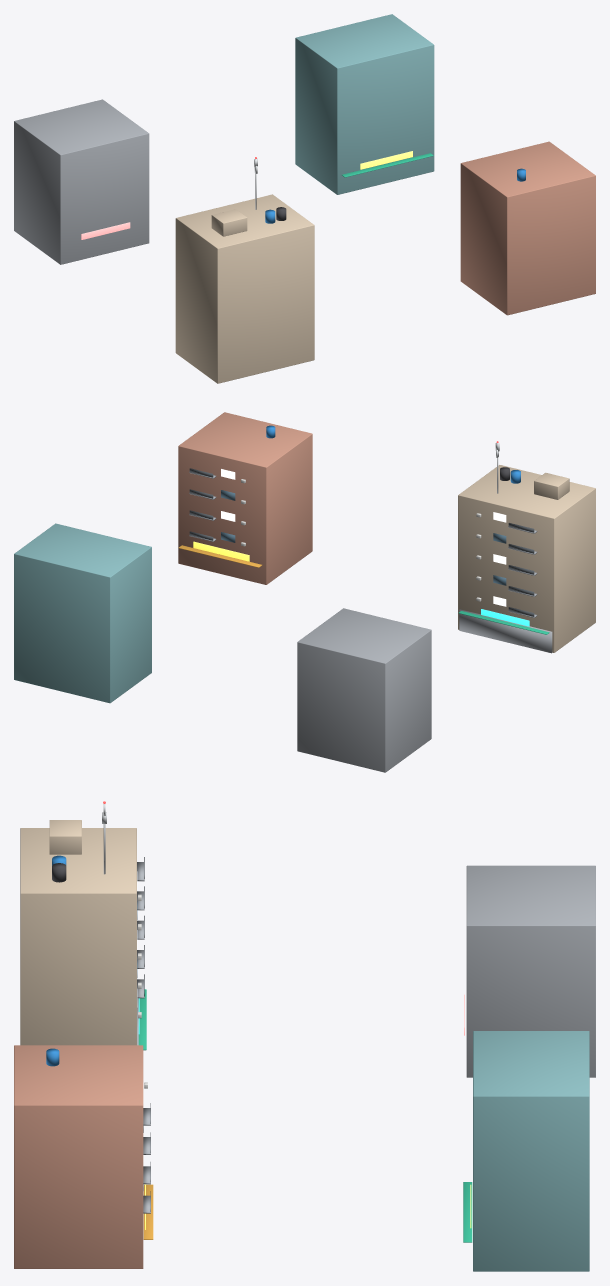
Rendered from mirpur10-environment.glb.
3 views of the same model, one above another, from view 1: azimuth 30°, elevation 25°; view 2: azimuth 150°, elevation 25°; view 3: azimuth 270°, elevation 25° (orthographic). The views are drawn at different scales.
Parts seen in each view (by area): view 1: Bldg1_MainMass, Bldg3_MainMass, Bldg2_MainMass, Bldg4_MainMass, Bldg1_Stairwell; view 2: Bldg3_MainMass, Bldg4_MainMass, Bldg1_MainMass, Bldg2_MainMass, Bldg1_ShopBase, Bldg1_Stairwell; view 3: Bldg2_MainMass, Bldg3_MainMass, Bldg1_MainMass, Bldg4_MainMass, Bldg1_Stairwell, Bldg3_Awning.
Boxes of the visible parts, left/top/right/bottom form: Bldg1_MainMass: left=175, top=194, right=314, bottom=383; Bldg3_MainMass: left=295, top=14, right=434, bottom=194; Bldg2_MainMass: left=460, top=141, right=595, bottom=315; Bldg4_MainMass: left=14, top=99, right=149, bottom=264; Bldg1_Stairwell: left=211, top=209, right=247, bottom=236; Bldg3_MainMass: left=14, top=523, right=151, bottom=703; Bldg4_MainMass: left=297, top=608, right=431, bottom=772; Bldg1_MainMass: left=458, top=465, right=595, bottom=652; Bldg2_MainMass: left=178, top=412, right=312, bottom=584; Bldg1_ShopBase: left=459, top=609, right=552, bottom=653; Bldg1_Stairwell: left=534, top=472, right=569, bottom=499; Bldg2_MainMass: left=14, top=1045, right=143, bottom=1268; Bldg3_MainMass: left=473, top=1031, right=589, bottom=1271; Bldg1_MainMass: left=20, top=828, right=136, bottom=1045; Bldg4_MainMass: left=466, top=865, right=595, bottom=1077; Bldg1_Stairwell: left=49, top=820, right=81, bottom=854; Bldg3_Awning: left=463, top=1182, right=472, bottom=1242.
Bounding box in the file's own units: 94 × 44.42 × 90.
